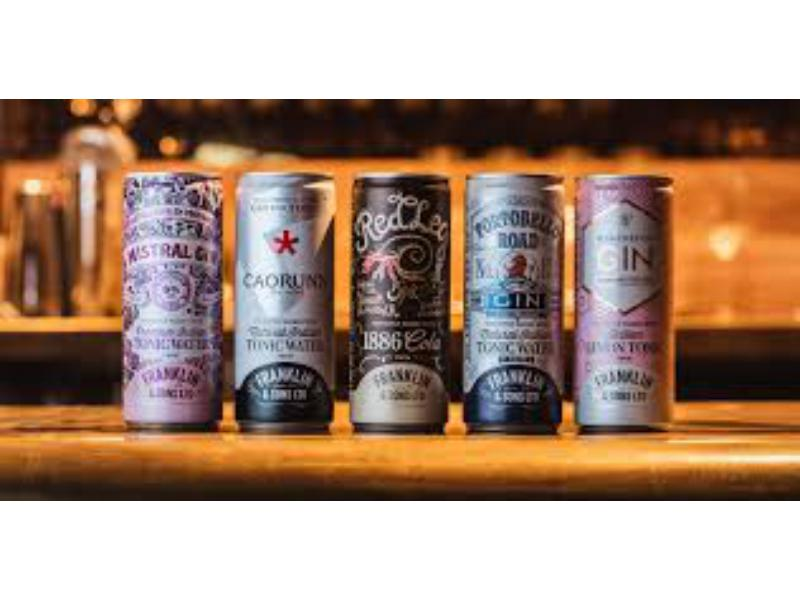can: (460, 171, 570, 447), (117, 160, 225, 435), (229, 168, 340, 435), (347, 170, 458, 433), (571, 169, 678, 434)
